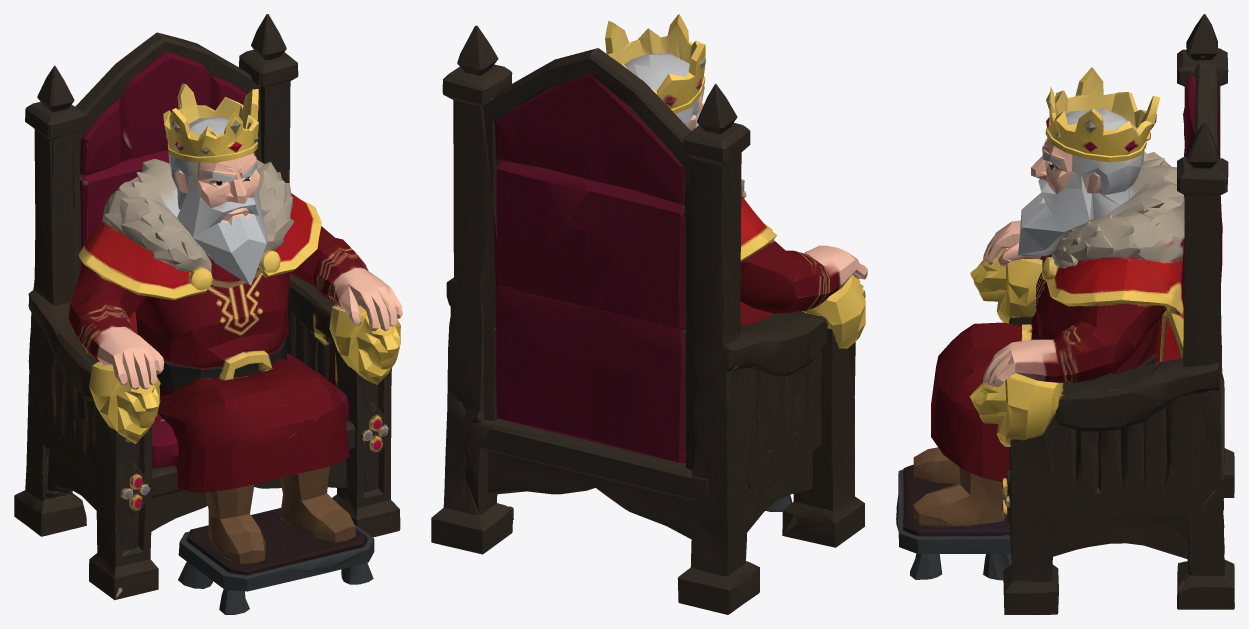
File: The Crowned Sovereign_Meshy_AI_2026-09-27_75bca6.glb
3 views of the same model, side by side, from view 1: azimuth 30°, elevation 25°; view 2: azimuth 150°, elevation 25°; view 3: azimuth 270°, elevation 25° (orthographic). The views are drawn at different scales.
Visible parts, largest first — view 1: output_unwrapped; view 2: output_unwrapped; view 3: output_unwrapped.
Part boxes in pixels (<box>): output_unwrapped: <box>14,14,402,614</box>; output_unwrapped: <box>431,14,867,614</box>; output_unwrapped: <box>896,14,1234,614</box>.
Size of the model in its own units: 1.3 by 1.9 by 1.22.
Materials: 1 (1 with a texture image).
